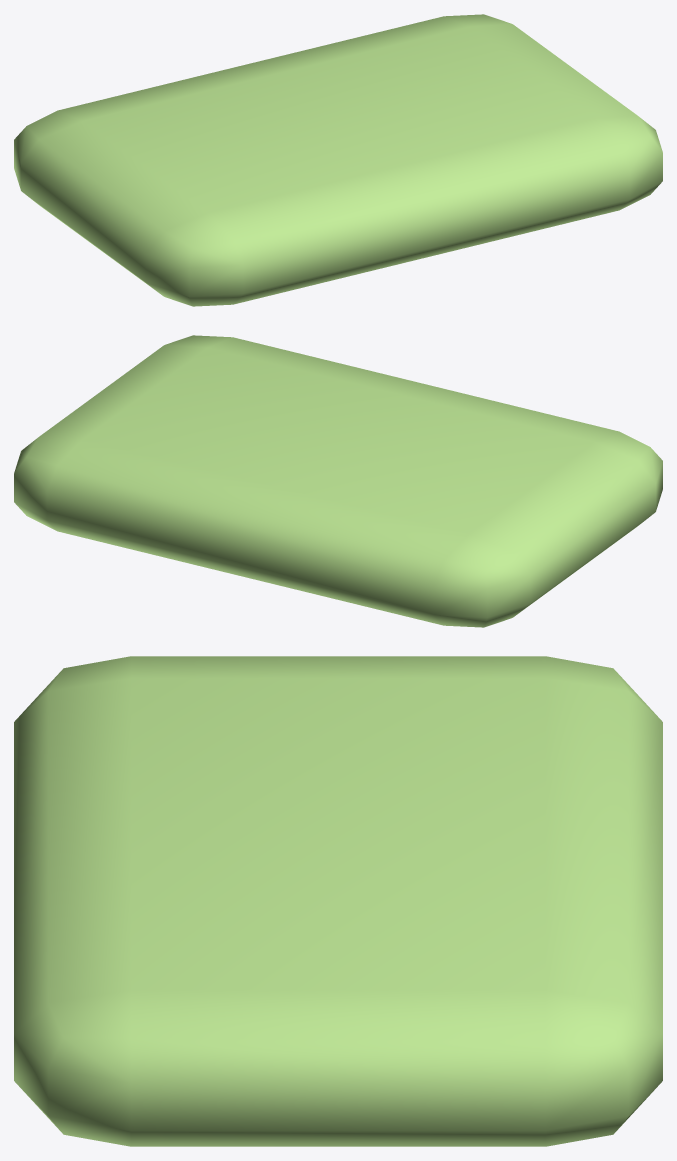
The model's file is barsoap.dae.
3 renders of one model, top to bottom at view 1: azimuth 30°, elevation 25°; view 2: azimuth 150°, elevation 25°; view 3: azimuth 270°, elevation 25°, orthographic. The views are drawn at different scales.
Visible parts, largest first — view 1: Soap; view 2: Soap; view 3: Soap.
Part boxes in pixels (x1,y1,x2,y2): Soap: (14, 14, 662, 306); Soap: (14, 335, 662, 627); Soap: (14, 656, 662, 1146).
Size of the model in its own units: 0.081 by 0.054 by 0.0123.
